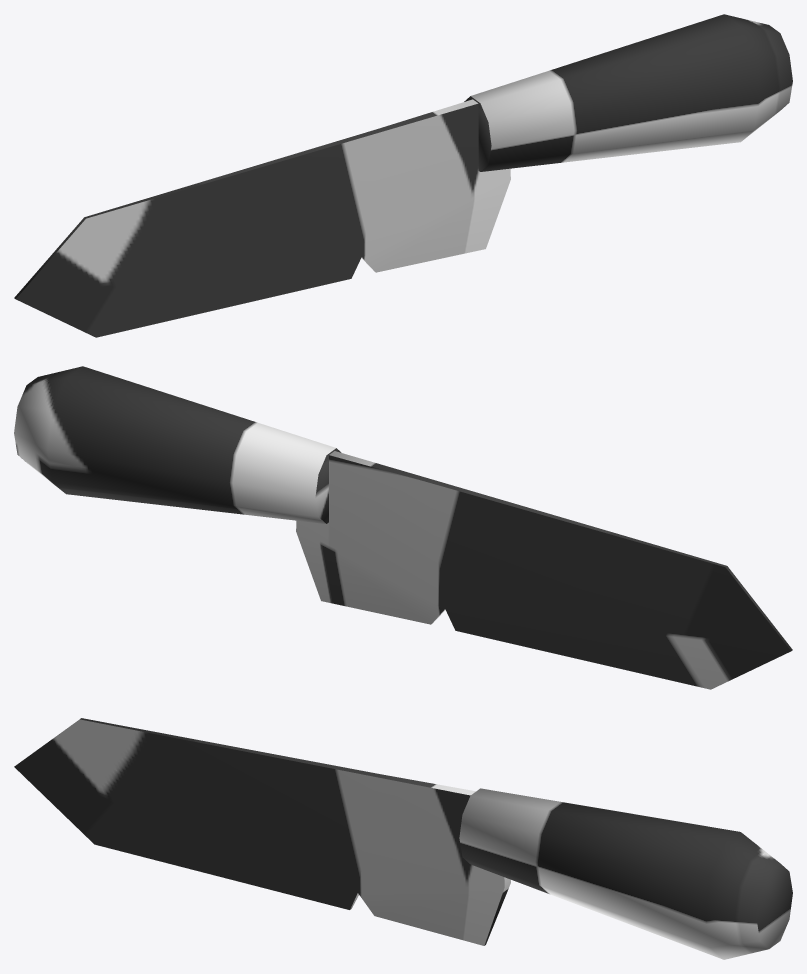
File: SM_Knife_01.fbx
The picture shows the model from 3 angles, top to bottom: view 1: azimuth 30°, elevation 25°; view 2: azimuth 150°, elevation 25°; view 3: azimuth 330°, elevation 25°; orthographic projection.
Visible parts, largest first — view 1: SM_Knife_01.001; view 2: SM_Knife_01.001; view 3: SM_Knife_01.001.
Part boxes in pixels (x1,y1,x2,y2): SM_Knife_01.001: (14, 14, 792, 337); SM_Knife_01.001: (14, 366, 792, 689); SM_Knife_01.001: (14, 718, 792, 959).
Bounding box in the file's own units: 0.0433 × 0.3505 × 0.0739.
Materials: 1 (1 with a texture image).
